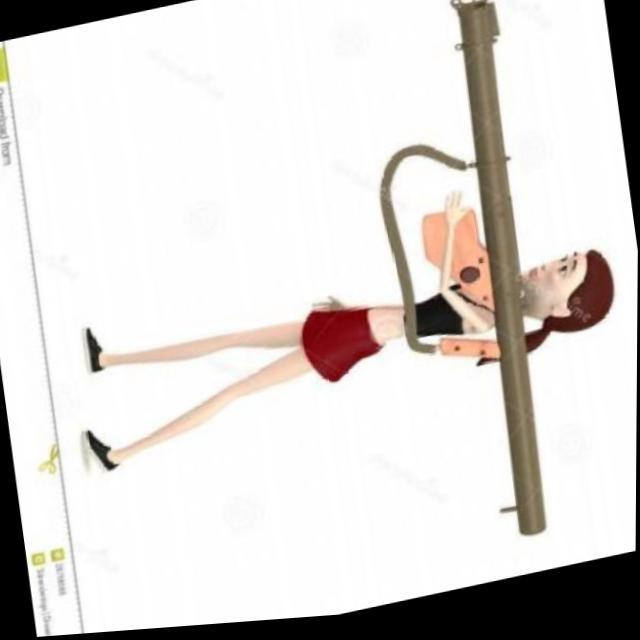weapon: (438, 0, 556, 559)
